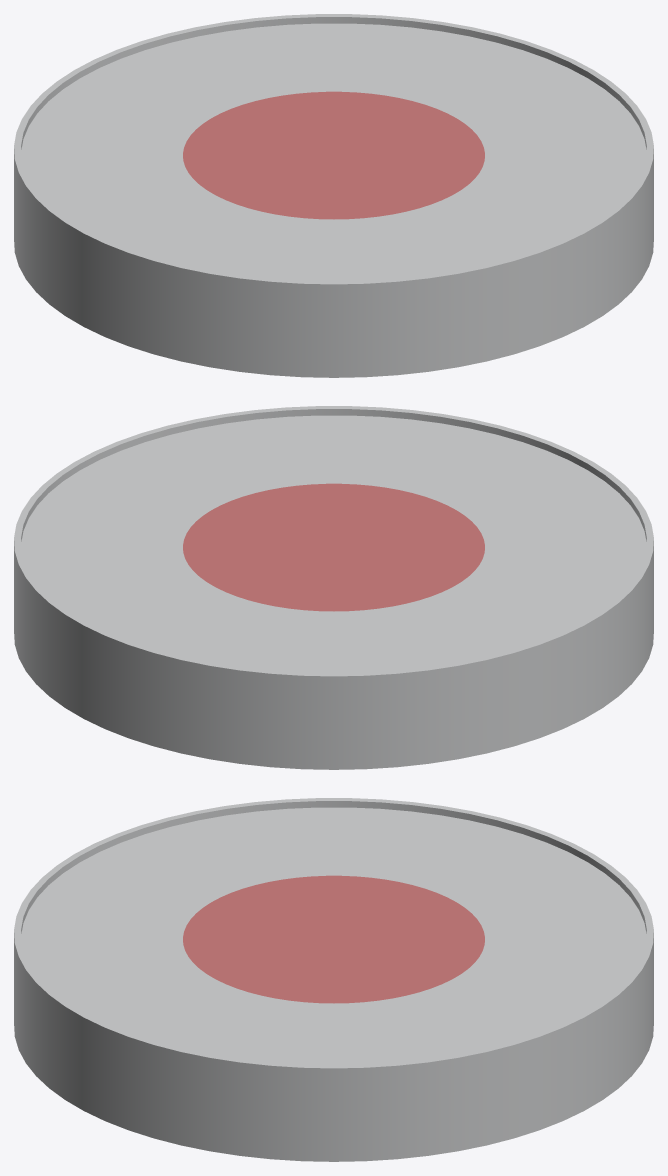
Rendered from step_02.glb.
3 renders of one model, top to bottom at view 1: azimuth 30°, elevation 25°; view 2: azimuth 150°, elevation 25°; view 3: azimuth 270°, elevation 25°, orthographic.
Visible parts, largest first — view 1: part__chassis, removed__chassis; view 2: part__chassis, removed__chassis; view 3: part__chassis, removed__chassis.
Boxes of the visible parts, x1=… form: part__chassis: x1=14, y1=14, x2=653, y2=377; removed__chassis: x1=183, y1=91, x2=484, y2=219; part__chassis: x1=14, y1=406, x2=653, y2=769; removed__chassis: x1=183, y1=483, x2=484, y2=611; part__chassis: x1=14, y1=798, x2=653, y2=1161; removed__chassis: x1=183, y1=875, x2=484, y2=1003.
Bounding box in the file's own units: 180 × 29 × 180.
